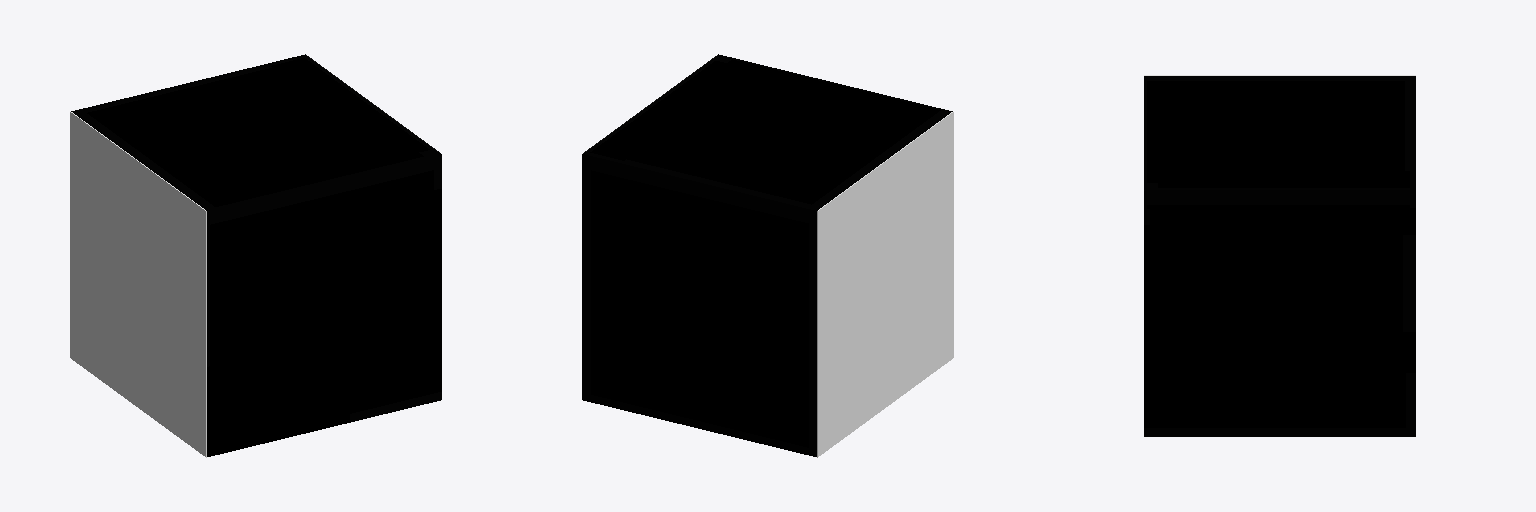
3 renders of one model, left to right at view 1: azimuth 30°, elevation 25°; view 2: azimuth 150°, elevation 25°; view 3: azimuth 270°, elevation 25°, orthographic.
Parts seen in each view (by area): view 1: Cube; view 2: Cube; view 3: Cube.
Part boxes in pixels (left/top/right/bottom): Cube: left=70, top=54, right=441, bottom=457; Cube: left=582, top=54, right=953, bottom=457; Cube: left=1144, top=75, right=1415, bottom=436.
Bounding box in the file's own units: 2 × 2 × 2.
1 materials, 1 textured.